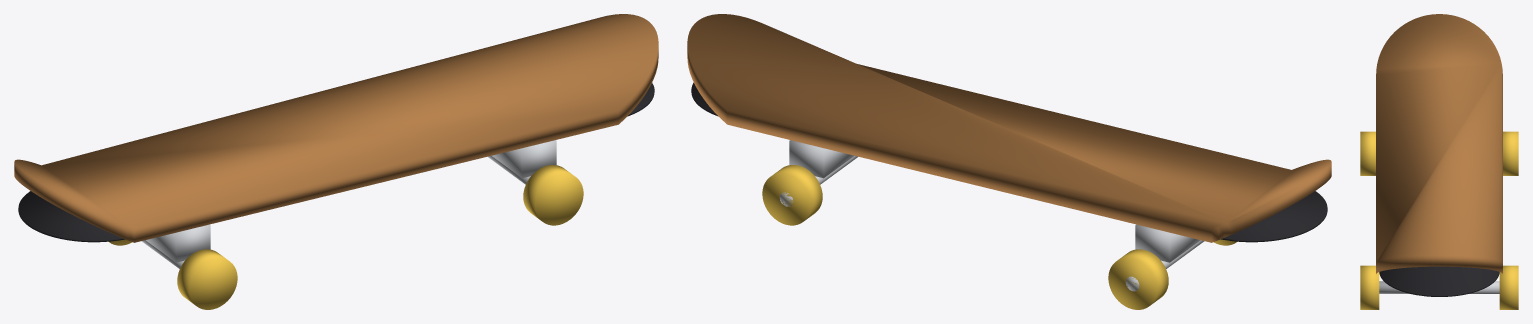
File: skateboard.glb
3 views of the same model, side by side, from view 1: azimuth 30°, elevation 25°; view 2: azimuth 150°, elevation 25°; view 3: azimuth 270°, elevation 25° (orthographic). The views are drawn at different scales.
Visible parts, largest first — view 1: part0, part5, part3, part1; view 2: part0, part5, part3, part1; view 3: part0, part5, part1, part3.
Part boxes in pixels (x1,y1,x2,y2): part0: (14,14,658,242); part5: (109,165,583,309); part3: (141,140,556,268); part1: (18,83,654,242); part0: (687,14,1331,242); part5: (762,165,1237,309); part3: (779,140,1204,291); part1: (691,82,1327,242); part0: (1376,14,1502,273); part5: (1360,131,1518,309); part1: (1379,266,1499,296); part3: (1379,281,1499,293).
Bounding box in the file's own units: 1 × 0.2055 × 0.2778.
